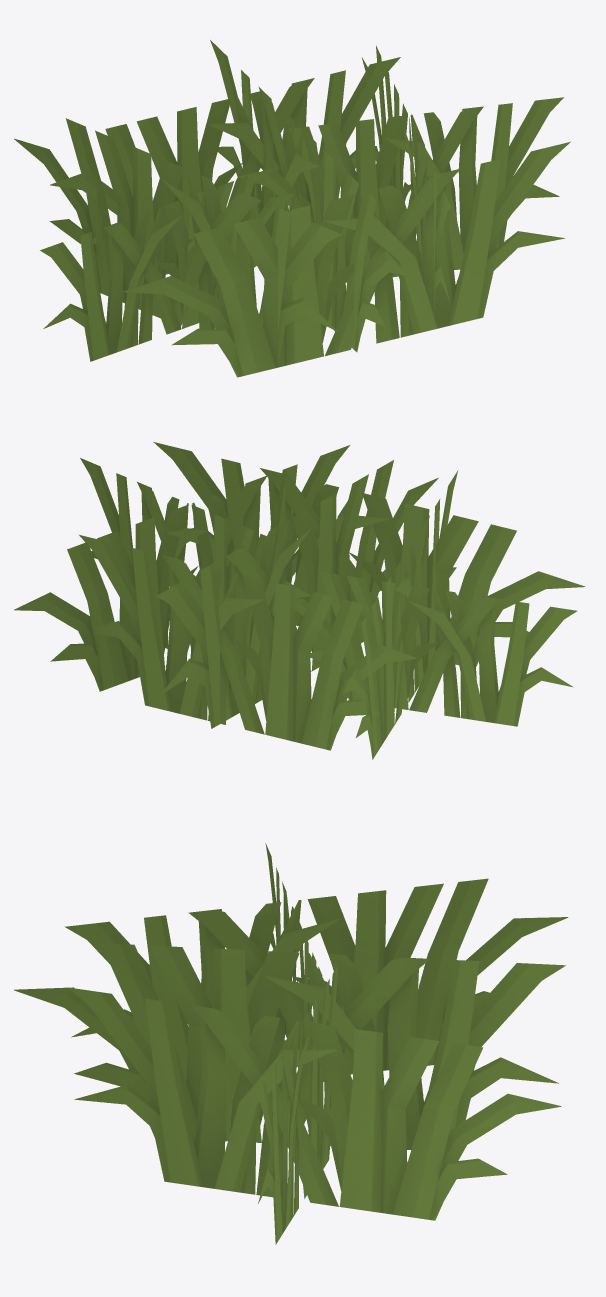
The model's file is SM_Env_Grass_Med_Clump_02.fbx.
3 views of the same model, one above another, from view 1: azimuth 30°, elevation 25°; view 2: azimuth 150°, elevation 25°; view 3: azimuth 270°, elevation 25° (orthographic). The views are drawn at different scales.
Visible parts, largest first — view 1: SM_Env_Grass_Med_Clump_02_LOD0; view 2: SM_Env_Grass_Med_Clump_02_LOD0; view 3: SM_Env_Grass_Med_Clump_02_LOD0.
Part boxes in pixels (x1,y1,x2,y2): SM_Env_Grass_Med_Clump_02_LOD0: (14,40,570,377); SM_Env_Grass_Med_Clump_02_LOD0: (14,442,585,759); SM_Env_Grass_Med_Clump_02_LOD0: (14,843,568,1244).
Size of what is drawn, in the model's own units: 179 by 53.29 by 145.
